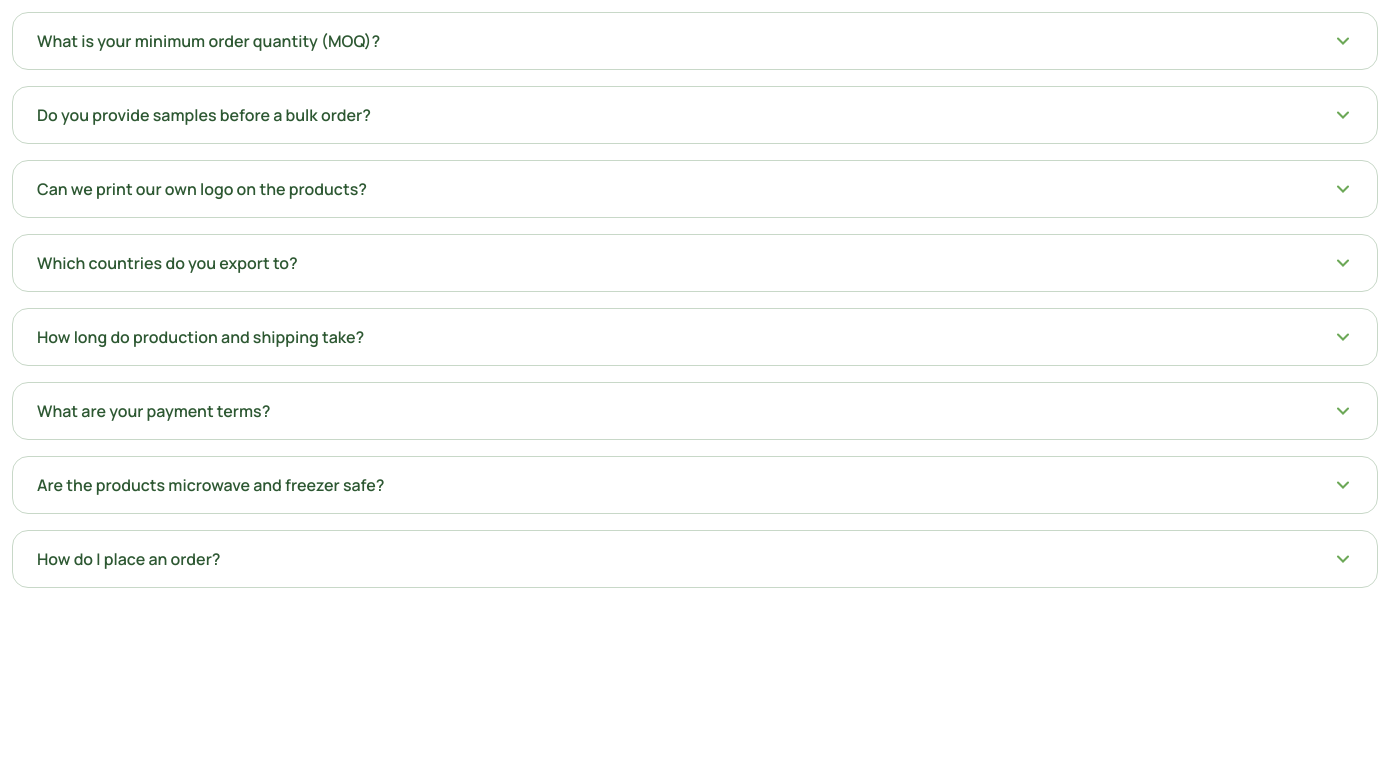
Scenario: FaqAccordion › hides the answer when clicked again
Click the button "What is your minimum order quantity (MOQ)?" at (209, 41), box top-left (13, 13), bottom-right (1377, 69)
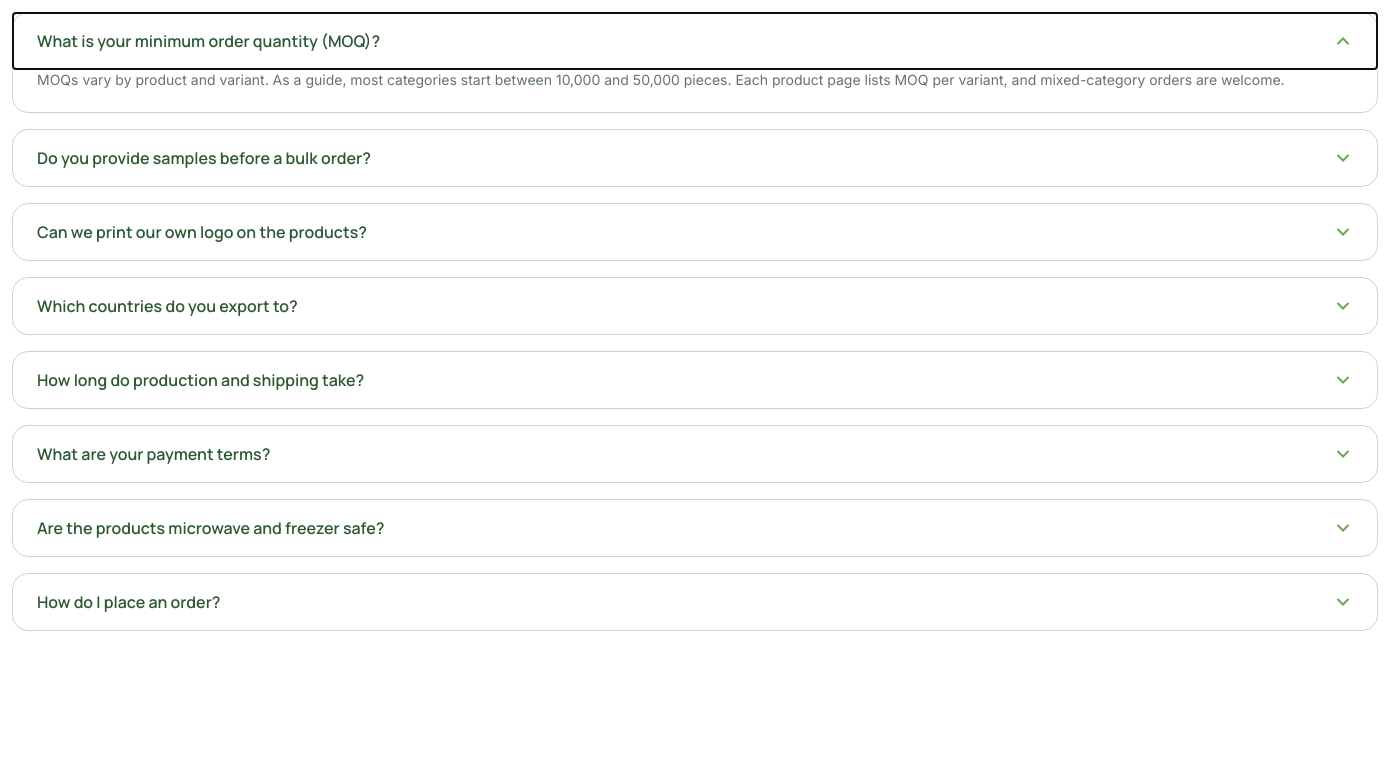
Click the button "What is your minimum order quantity (MOQ)?" at (209, 41), box top-left (13, 13), bottom-right (1377, 69)
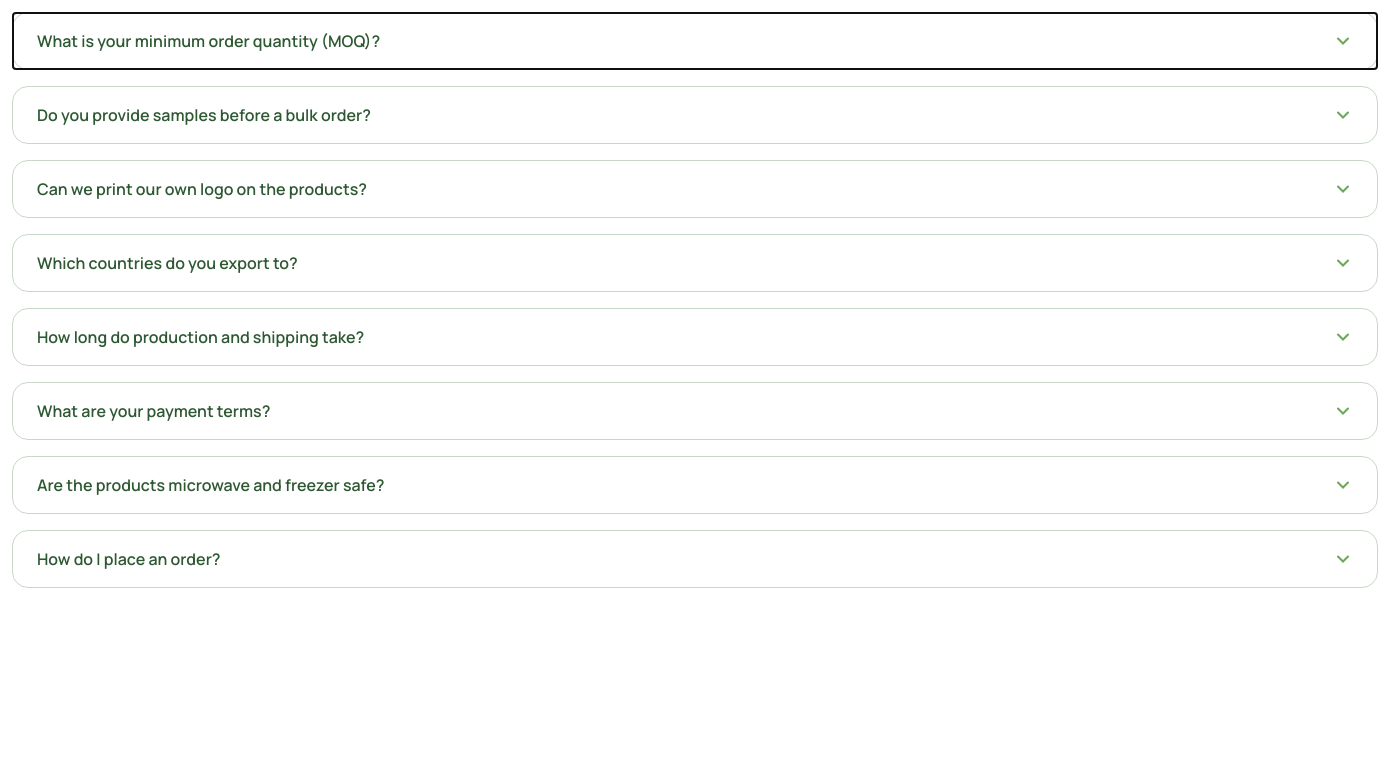
expect the text "mixed-category orders are welcome" is gone: met
